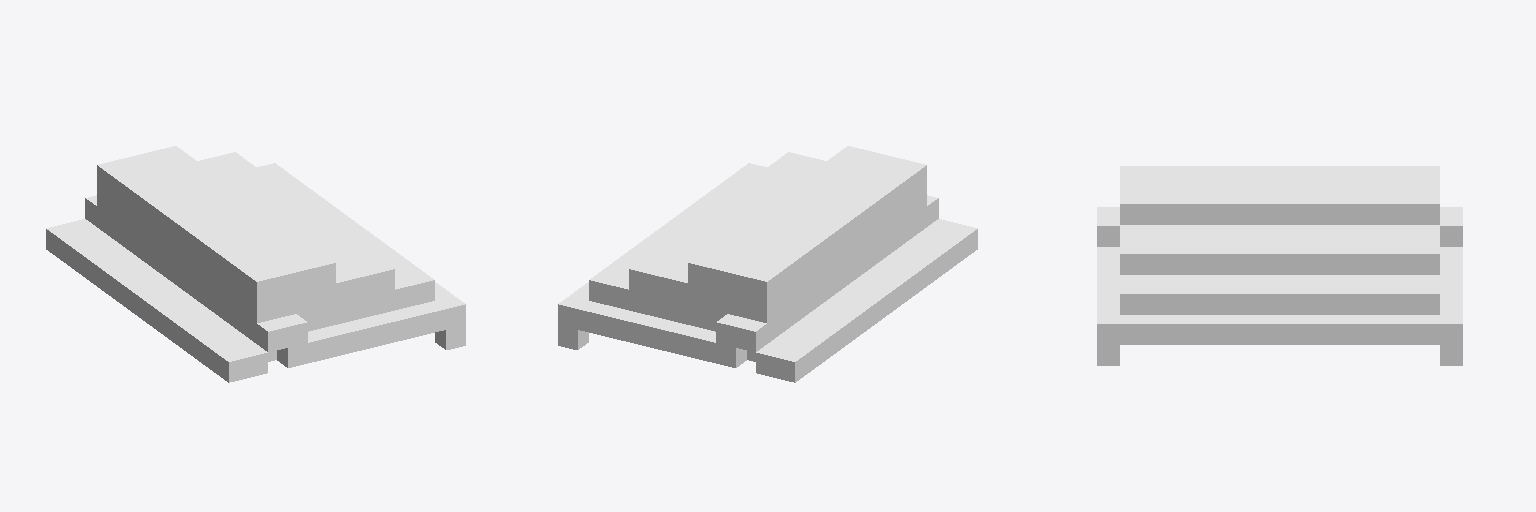
Rendered from FireSpellBook-0.obj.
3 renders of one model, left to right at view 1: azimuth 30°, elevation 25°; view 2: azimuth 150°, elevation 25°; view 3: azimuth 270°, elevation 25°, orthographic.
Visible parts, largest first — view 1: object 1; view 2: object 1; view 3: object 1.
Part boxes in pixels (left/top/right/bottom): object 1: left=46, top=146, right=465, bottom=382; object 1: left=558, top=146, right=977, bottom=382; object 1: left=1097, top=166, right=1462, bottom=365.
Size of the model in its own units: 1.2 by 0.5 by 1.6.